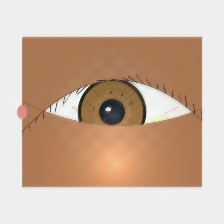pinguecula_lesion: (138, 102, 183, 139)
